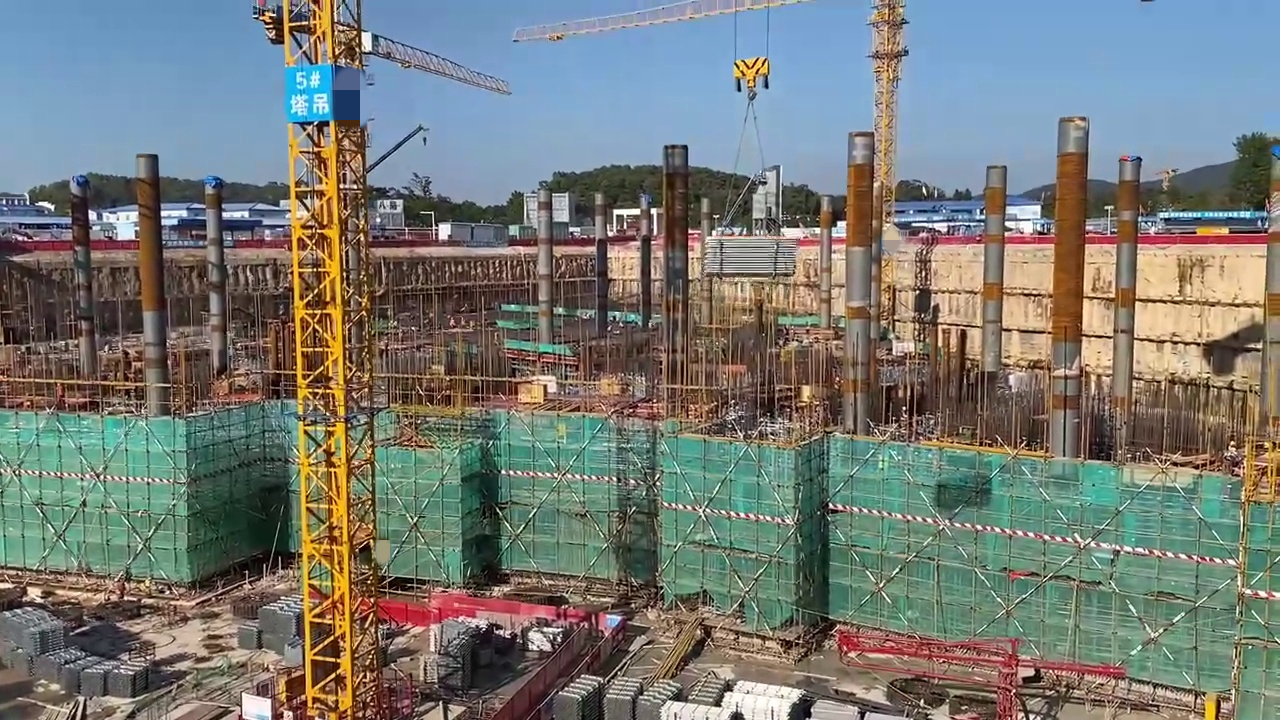fence: (424, 587, 601, 632), (375, 593, 427, 623)
hook: (733, 56, 772, 91)
scaffold: (3, 606, 150, 695), (703, 238, 800, 279), (252, 596, 306, 657), (731, 676, 801, 720), (555, 673, 605, 720), (603, 675, 644, 720), (642, 673, 680, 717), (670, 699, 735, 720)
